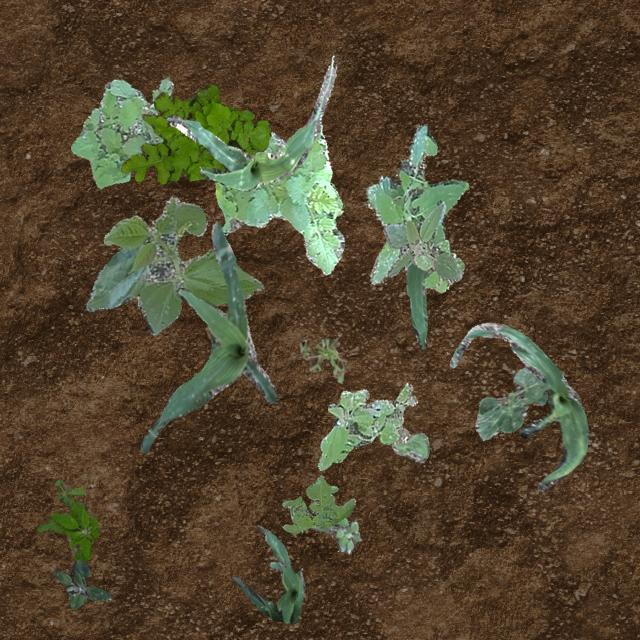crop: (140, 220, 278, 452), (85, 194, 262, 334), (448, 322, 588, 490), (166, 60, 336, 190), (232, 524, 304, 622), (474, 366, 548, 440), (403, 260, 428, 348), (391, 432, 428, 462)
weed: (70, 76, 343, 274), (367, 124, 468, 292), (120, 84, 270, 182), (316, 382, 416, 470), (382, 200, 461, 282), (36, 478, 98, 560), (282, 474, 354, 532), (54, 560, 110, 608), (298, 336, 346, 382), (310, 516, 360, 552)
